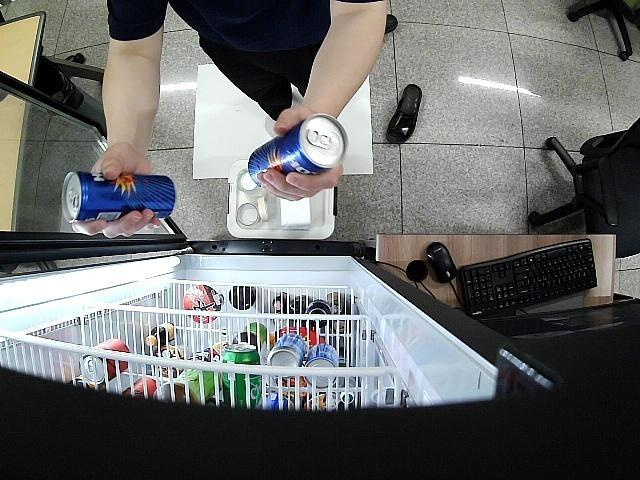16_hot6: (248, 113, 349, 187), (60, 169, 176, 223)
